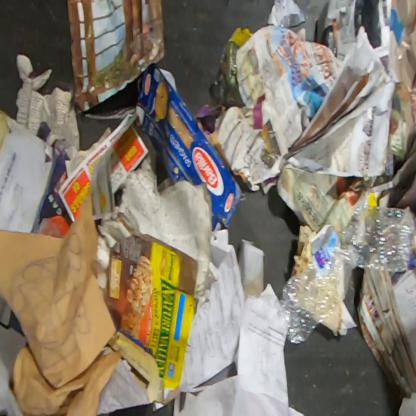cardboard: (133, 62, 243, 233), (104, 231, 199, 405)
rigid_plastic: (277, 242, 357, 345), (340, 200, 416, 273)
